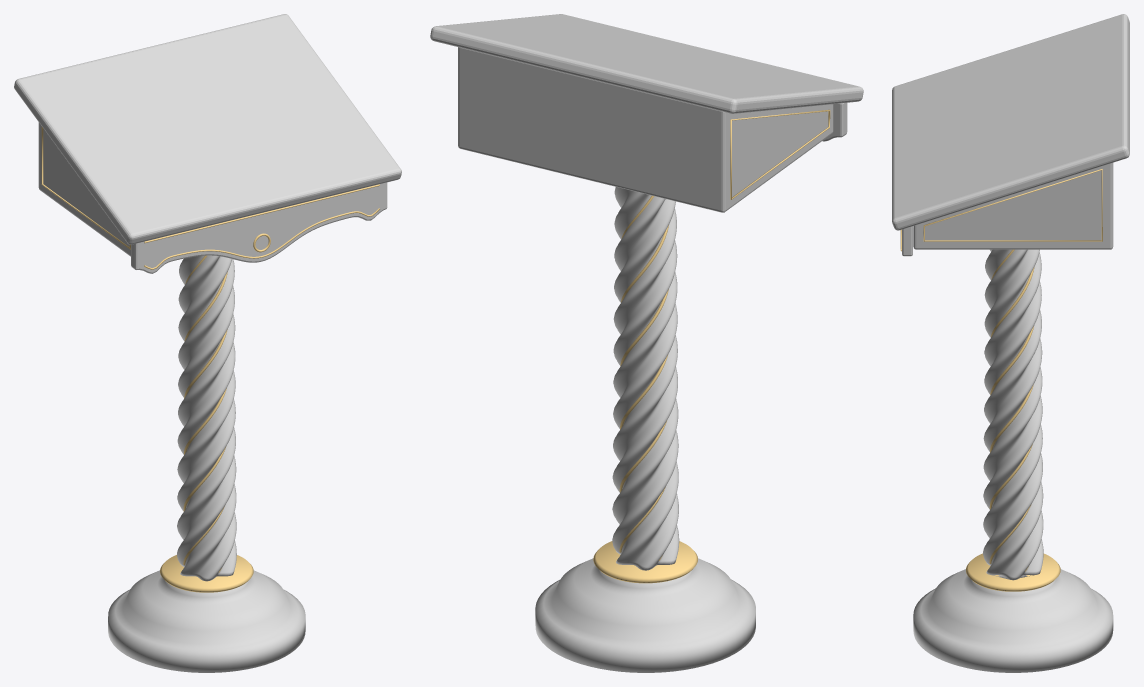
File: Lectern.fbx
The picture shows the model from 3 angles, left to right: view 1: azimuth 30°, elevation 25°; view 2: azimuth 150°, elevation 25°; view 3: azimuth 270°, elevation 25°; orthographic projection. The views are drawn at different scales.
Visible parts, largest first — view 1: Lectern_Top, Lectern_Column, Lectern_Base, Lectern_FrontApron, Lectern_Body, Lectern_BaseRing, Lectern, Lectern_GoldApronScallop; view 2: Lectern_Body, Lectern_Column, Lectern_Top, Lectern_Base, Lectern_BaseRing, Lectern, Lectern_GoldSide_L; view 3: Lectern_Top, Lectern_Column, Lectern_Base, Lectern_Body, Lectern_BaseRing, Lectern, Lectern_GoldSide_R.
Part boxes in pixels (x1,y1,x2,y2): Lectern_Top: (14, 14, 401, 244); Lectern_Column: (177, 255, 236, 581); Lectern_Base: (108, 570, 305, 672); Lectern_FrontApron: (131, 182, 387, 273); Lectern_Body: (38, 122, 130, 256); Lectern_BaseRing: (160, 555, 253, 592); Lectern: (183, 255, 227, 572); Lectern_GoldApronScallop: (144, 208, 379, 269); Lectern_Body: (458, 47, 833, 212); Lectern_Column: (612, 187, 679, 570); Lectern_Top: (430, 14, 863, 113); Lectern_Base: (535, 558, 755, 672); Lectern_BaseRing: (593, 541, 697, 583); Lectern: (619, 195, 668, 560); Lectern_GoldSide_L: (730, 109, 830, 199); Lectern_Top: (892, 14, 1129, 230); Lectern_Column: (983, 249, 1043, 580); Lectern_Base: (913, 569, 1113, 672); Lectern_Body: (913, 163, 1113, 249); Lectern_BaseRing: (966, 553, 1060, 591); Lectern: (989, 249, 1034, 571); Lectern_GoldSide_R: (923, 169, 1102, 241).
Size of the model in its own units: 64 by 122 by 47.62.
